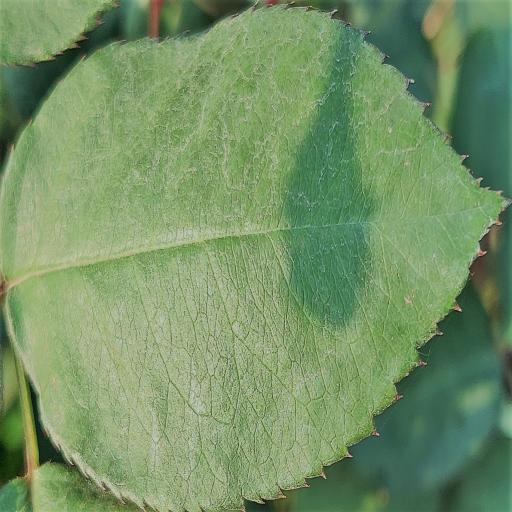healthy_leaf: (0, 7, 504, 512)
